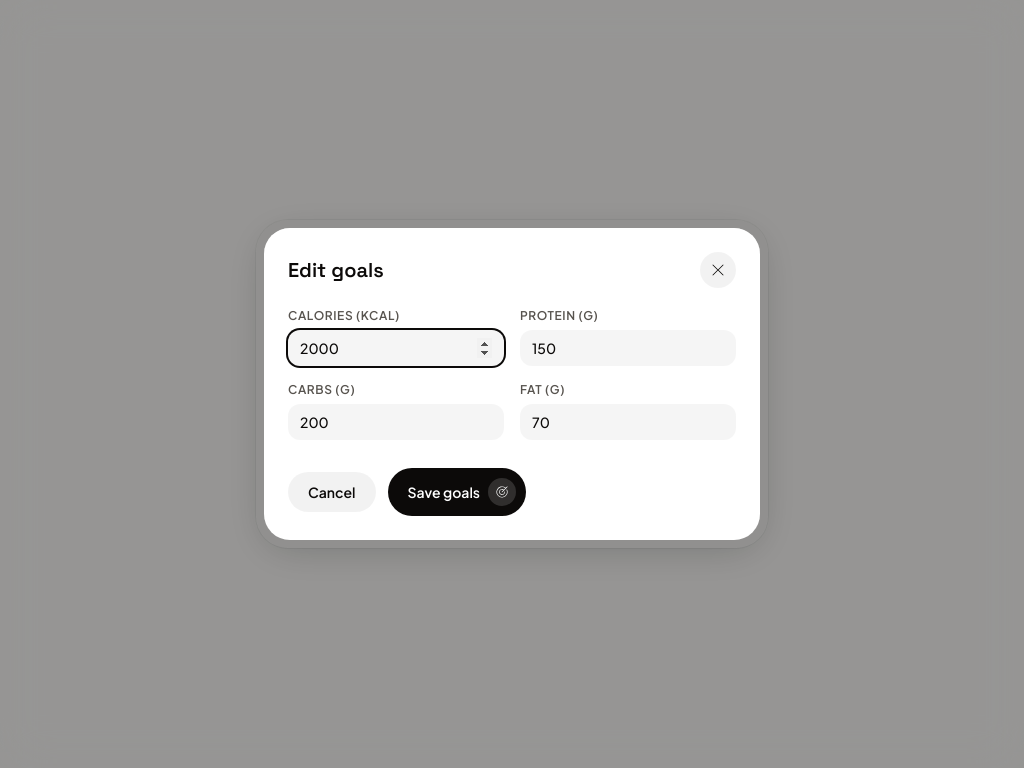
Test: GoalsModal — submit flow › shows loading state ('Saving…') and disables the submit button while submitting
Click the button "Save goals" at [457, 492], box [388,468,526,516]
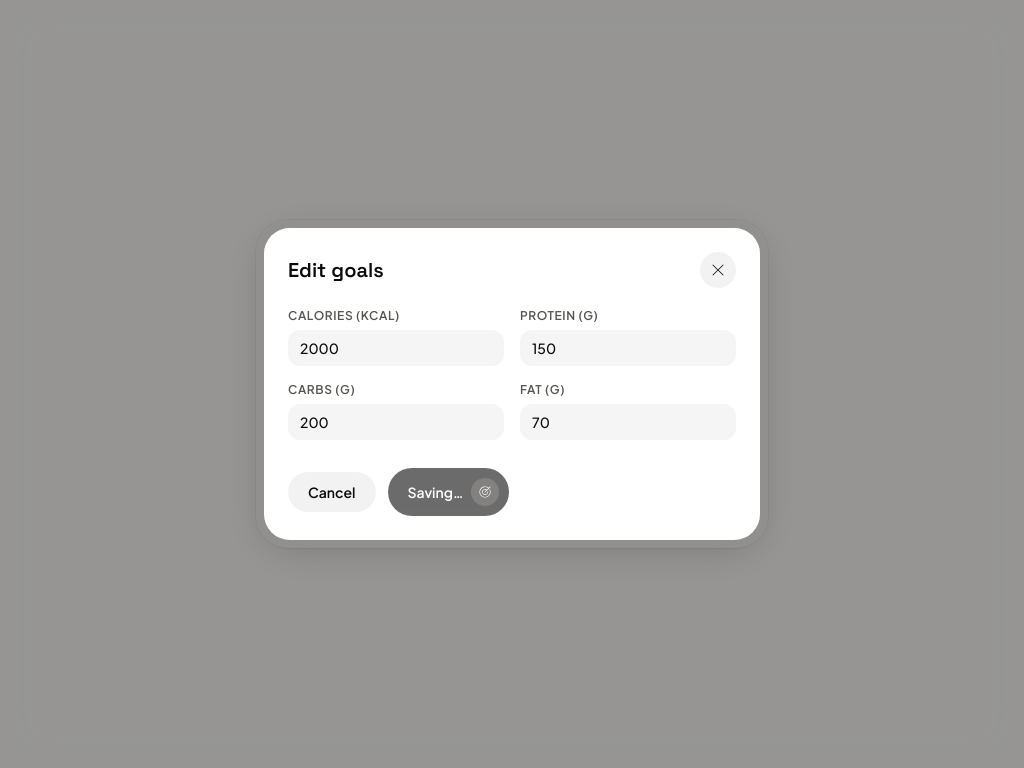
Expected: the button "Saving…" is disabled, [388,468,509,516]
